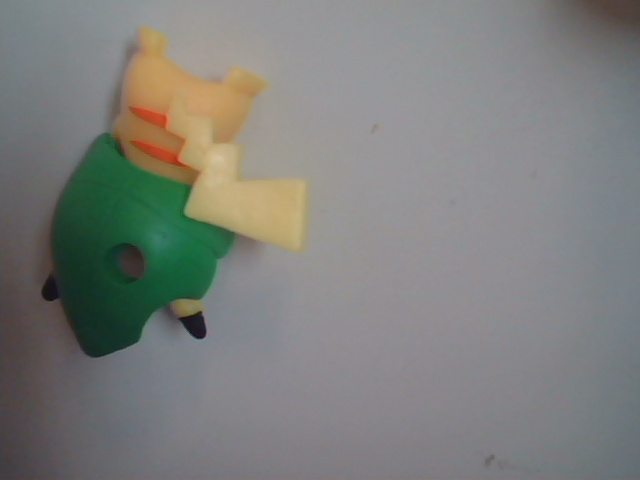pikachu: (26, 25, 399, 393)
